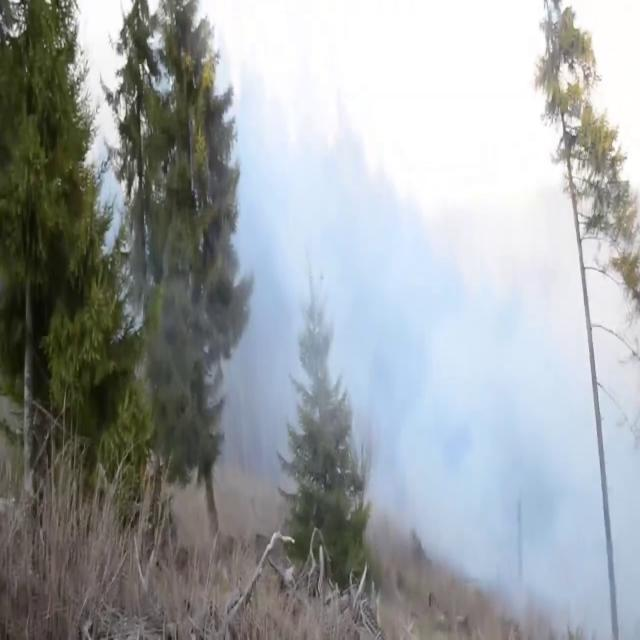Smoke: (204, 1, 639, 606)
